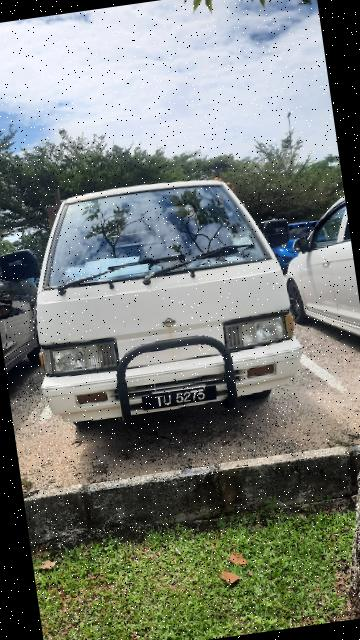License_Plate: (141, 379, 231, 425)
van: (1, 146, 317, 462)
